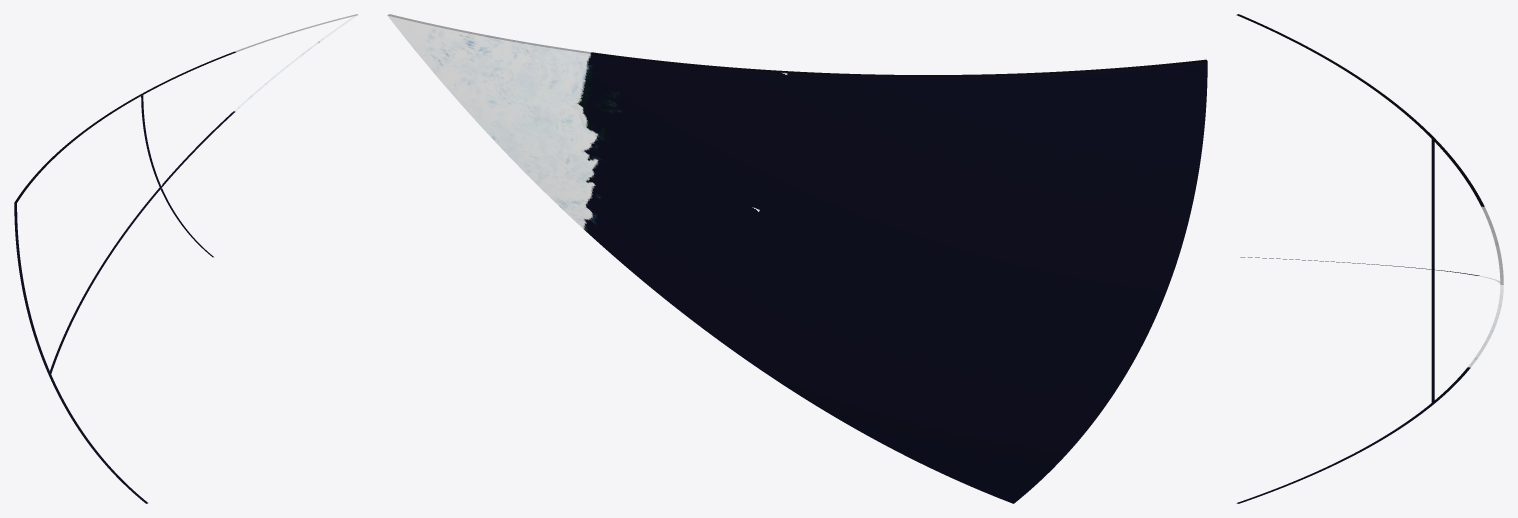
The picture shows the model from 3 angles, left to right: view 1: azimuth 30°, elevation 25°; view 2: azimuth 150°, elevation 25°; view 3: azimuth 270°, elevation 25°; orthographic projection. The views are drawn at different scales.
Parts seen in each view (by area): view 1: DefaultName.009, DefaultName.012, DefaultName.006, DefaultName.003; view 2: DefaultName.012, DefaultName.009, DefaultName.003, DefaultName.006; view 3: DefaultName.009, DefaultName.012, DefaultName.003, DefaultName.006.
Part boxes in pixels (x1,y1,x2,y2): DefaultName.009: (49, 187, 161, 503); DefaultName.012: (14, 94, 142, 374); DefaultName.006: (160, 15, 357, 257); DefaultName.003: (141, 14, 357, 187); DefaultName.012: (760, 59, 1207, 313); DefaultName.009: (682, 210, 1156, 503); DefaultName.003: (387, 14, 787, 209); DefaultName.006: (388, 16, 759, 312); DefaultName.009: (1236, 257, 1434, 503); DefaultName.012: (1236, 14, 1434, 269); DefaultName.003: (1432, 138, 1503, 284); DefaultName.006: (1432, 269, 1503, 403).
Bounding box in the file's own units: 45176 × 31944 × 18870.
4 materials, 4 textured.
